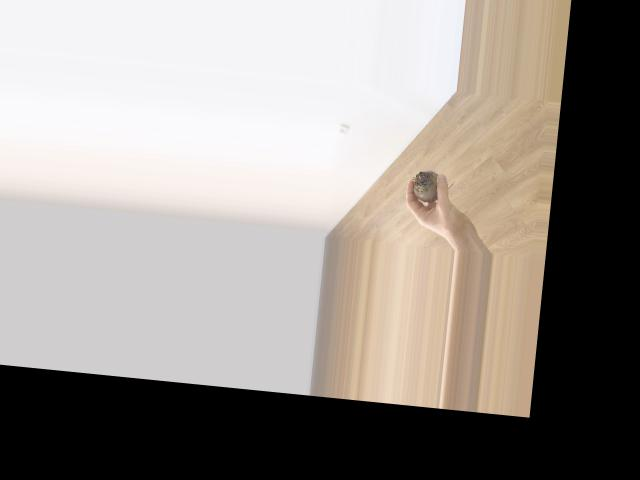beet: (410, 168, 454, 204)
